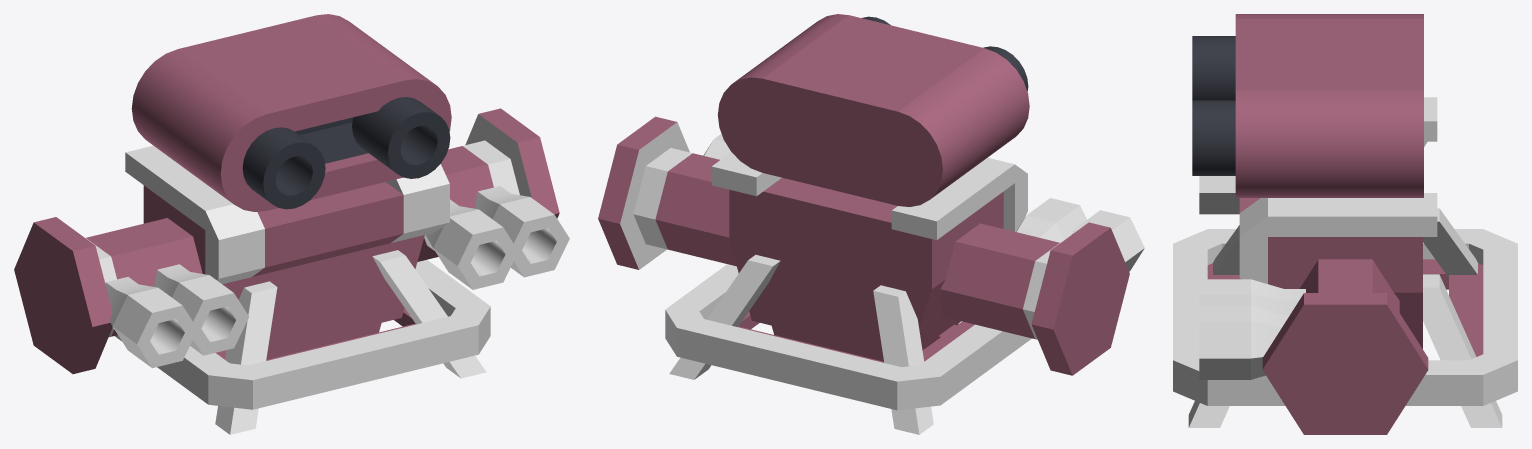
Rendered from walking_03_01.obj.
3 renders of one model, left to right at view 1: azimuth 30°, elevation 25°; view 2: azimuth 150°, elevation 25°; view 3: azimuth 270°, elevation 25°, orthographic. The views are drawn at different scales.
Parts seen in each view (by area): view 1: mergedBlocks; view 2: mergedBlocks; view 3: mergedBlocks.
Boxes of the visible parts, <box> form: mergedBlocks: <box>14,14,569,434</box>; mergedBlocks: <box>598,14,1144,434</box>; mergedBlocks: <box>1173,14,1517,434</box>.
Bounding box in the file's own units: 1.82 × 1.08 × 1.1.
